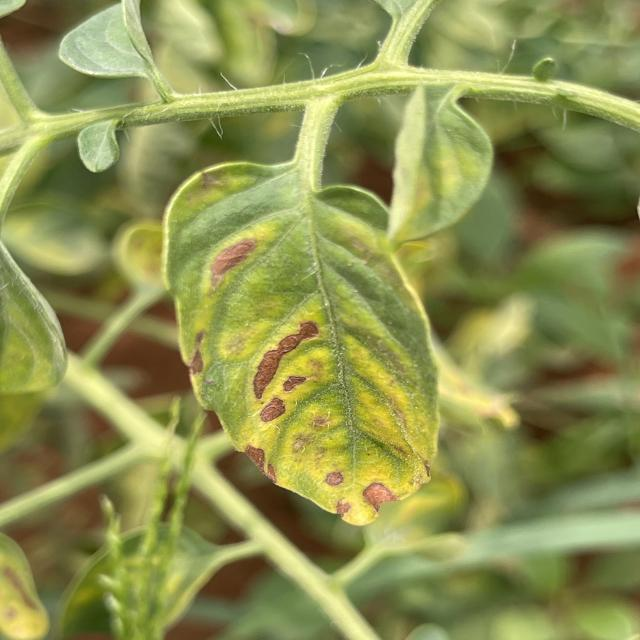tomato_early blight: (159, 154, 438, 533), (377, 84, 497, 251)
